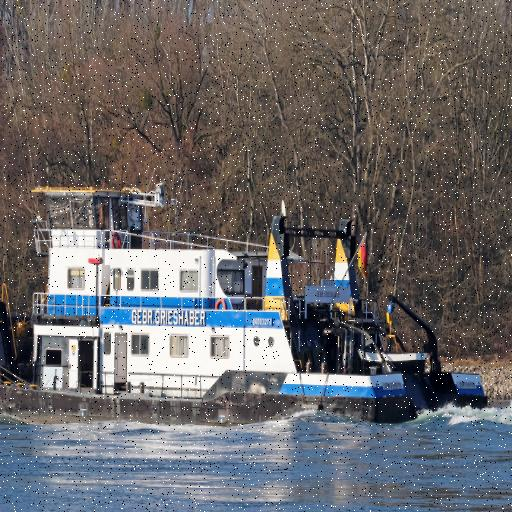tugboat: (1, 178, 492, 438)
